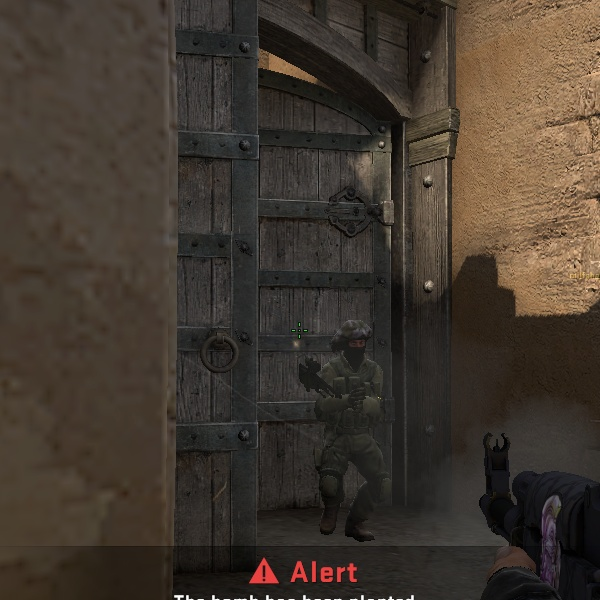ct_body: (294, 313, 402, 552)
ct_head: (332, 320, 376, 365)
